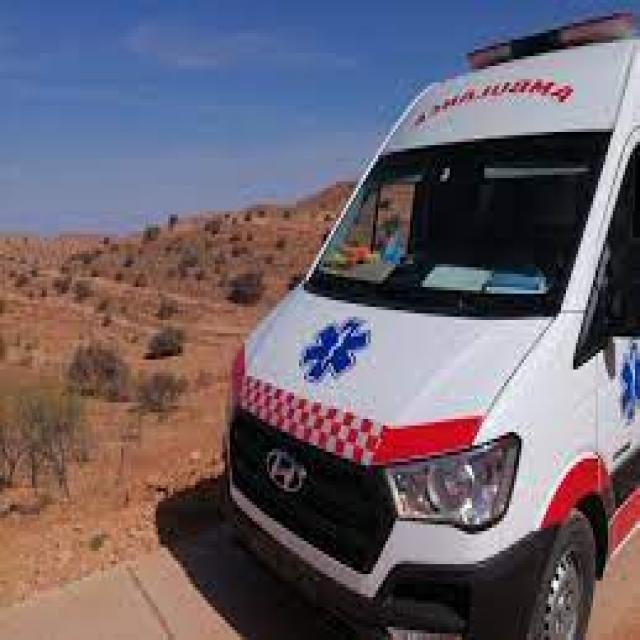ambulance: (228, 29, 640, 640)
